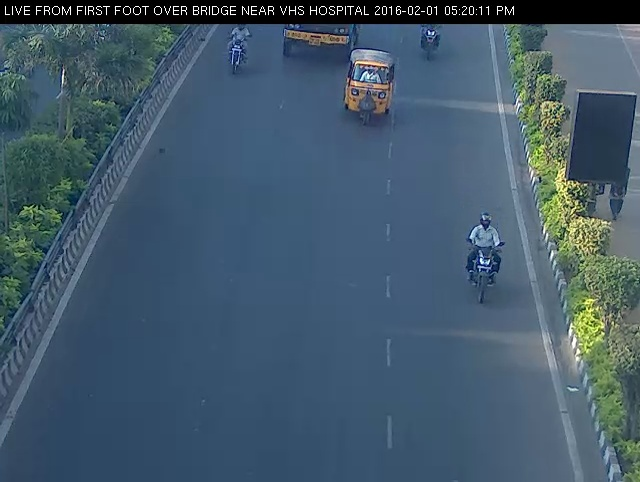Auto: (337, 36, 399, 134)
Bus: (277, 21, 366, 68)
Person: (450, 200, 515, 311), (219, 18, 259, 82), (414, 17, 450, 64)
